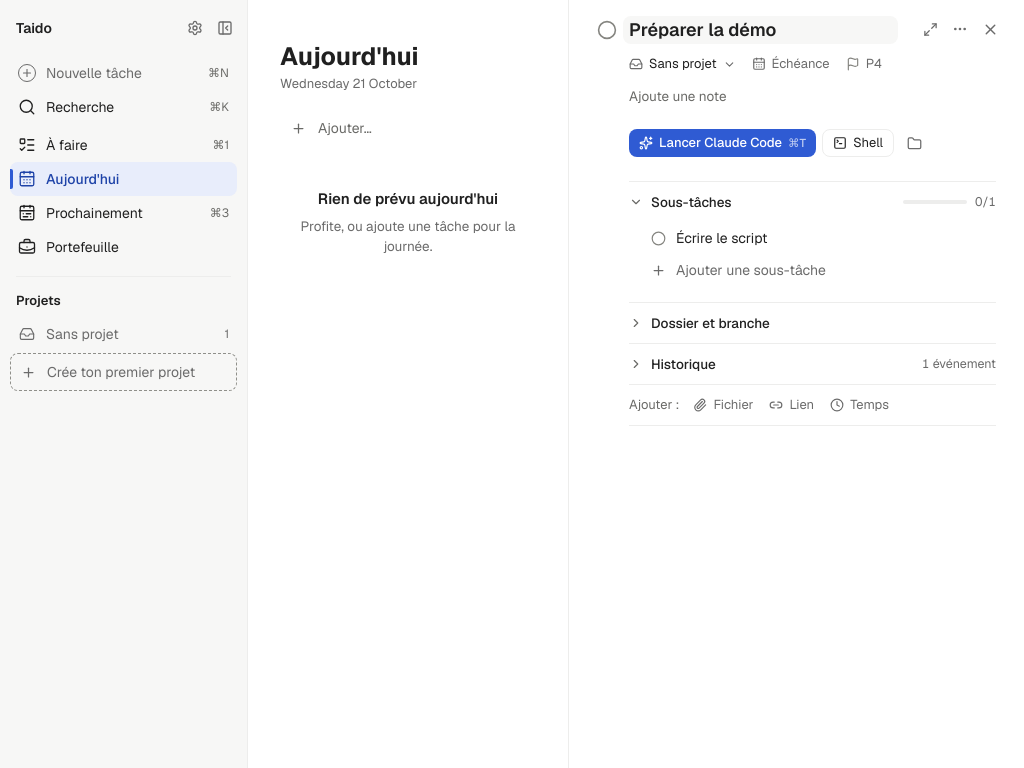
it: task panel: subtasks, priority and state dot › subtasks are child tasks › opens a subtask's panel from its text, and comes back by the breadcrumb
Expected: the text box named "Titre de la tâche" is shown, [623,16,898,44]
Click the button with aria-label "Ouvrir la sous-tâche « Écrire le script »" at (802, 238), box [676,222,928,254]
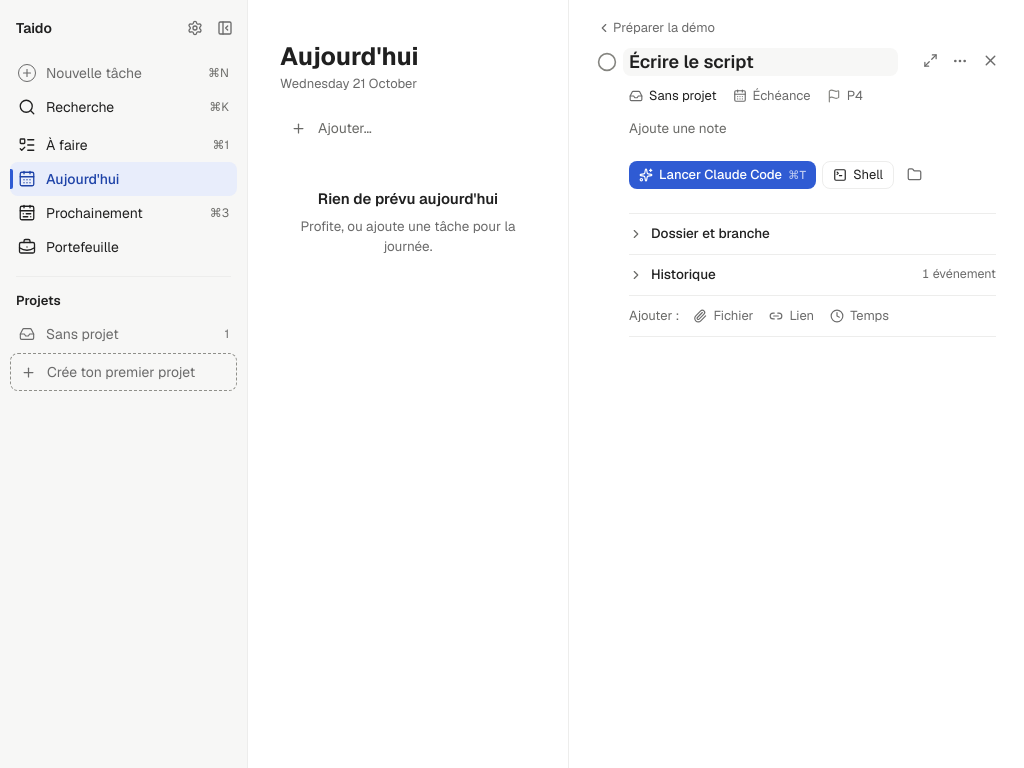
Expected: the text box labelled "note" is shown, [623,116,1002,140]
Expected: the text box named "Titre de la tâche" holds "Écrire le script", [623,48,898,76]
Expected: the button "Sous-tâches" is gone
Click the button named "Plus d'actions sur la tâche" at (960, 60), box [946,46,974,74]
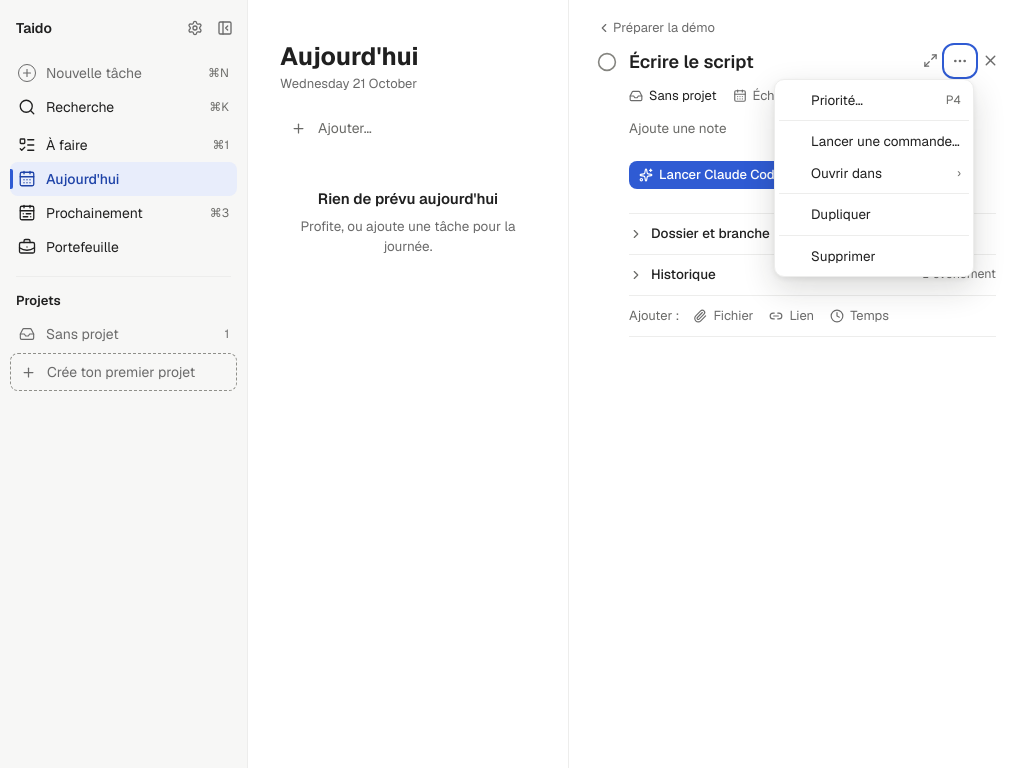
Press Escape
Click the button with aria-label "Revenir à « Préparer la démo »" at (656, 28), box [593,16,719,40]
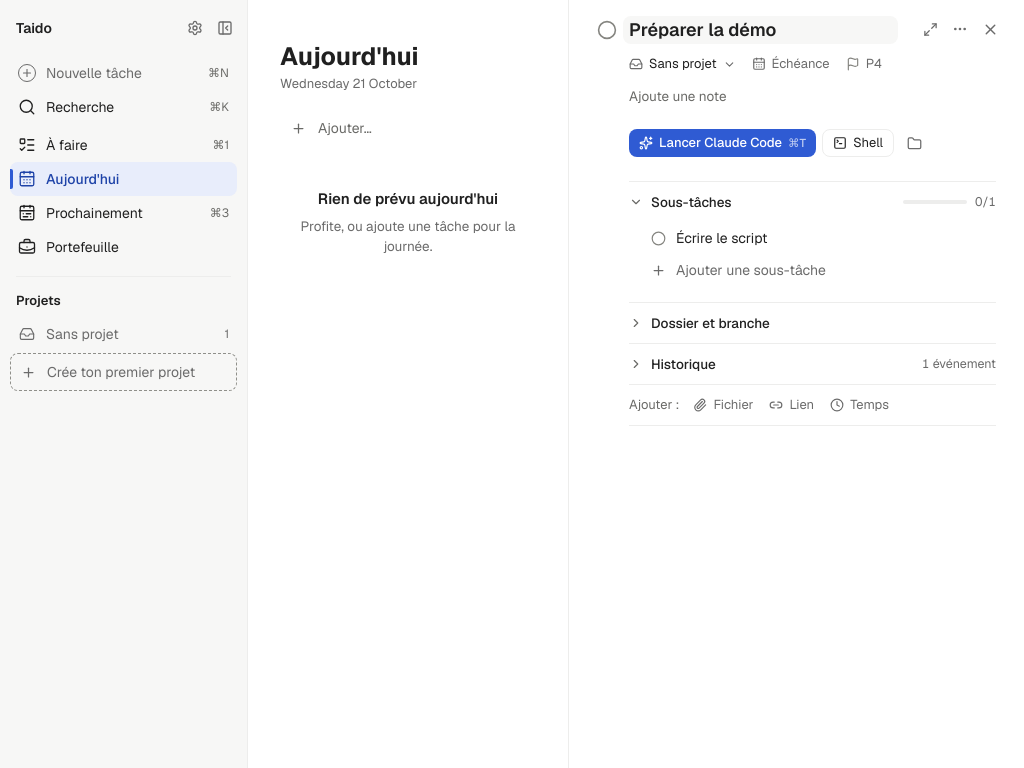
Expected: the text box named "Titre de la tâche" holds "Préparer la démo", [623,16,898,44]
Expected: the heading "Sous-tâches 0/1" is shown, [629,182,996,222]
